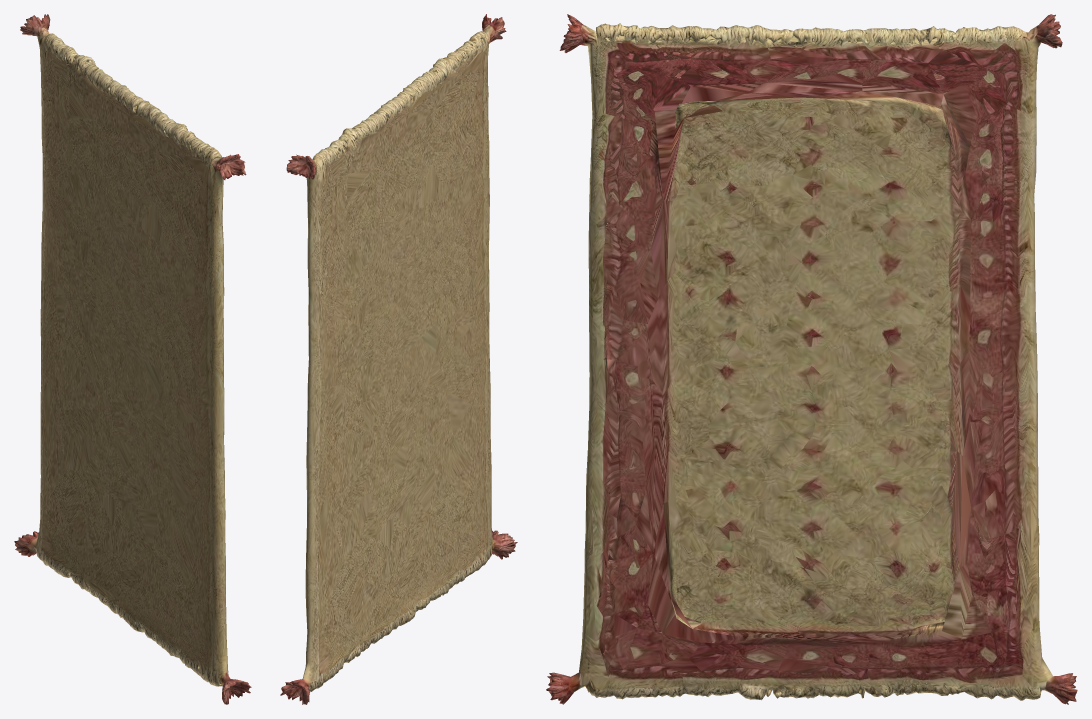
The model's file is hall-runner-rug.glb.
3 renders of one model, left to right at view 1: azimuth 30°, elevation 25°; view 2: azimuth 150°, elevation 25°; view 3: azimuth 270°, elevation 25°, orthographic. The views are drawn at different scales.
Parts seen in each view (by area): view 1: tripo_node_c1c0658c-3271-49b0-ab5a-6f9e4f787ecd; view 2: tripo_node_c1c0658c-3271-49b0-ab5a-6f9e4f787ecd; view 3: tripo_node_c1c0658c-3271-49b0-ab5a-6f9e4f787ecd.
Part boxes in pixels (x1,y1,x2,y2): tripo_node_c1c0658c-3271-49b0-ab5a-6f9e4f787ecd: [14, 14, 251, 704]; tripo_node_c1c0658c-3271-49b0-ab5a-6f9e4f787ecd: [280, 14, 517, 704]; tripo_node_c1c0658c-3271-49b0-ab5a-6f9e4f787ecd: [546, 14, 1077, 704].
Bounding box in the file's own units: 0.0529 × 0.9687 × 0.6773.
1 material, 1 textured.
